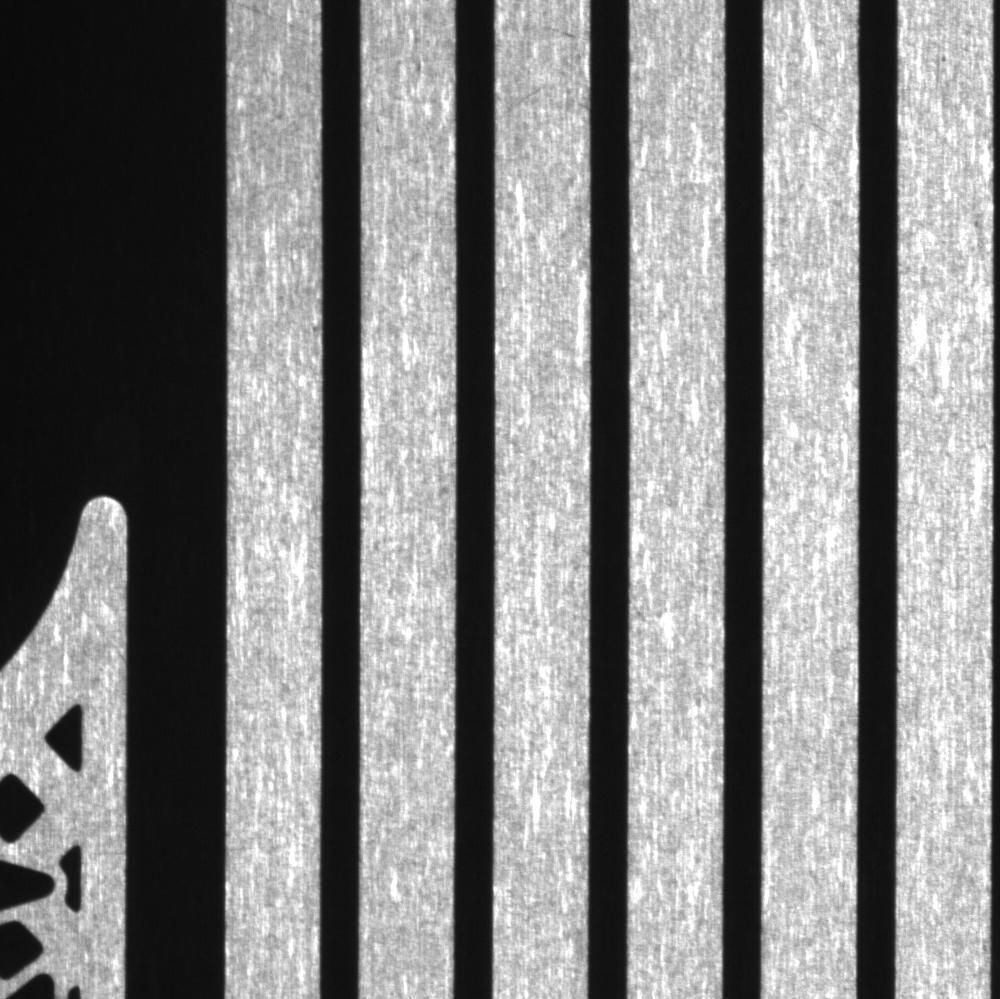Scar: (773, 92, 856, 161), (227, 1, 318, 48), (632, 150, 708, 194), (495, 80, 559, 132)
